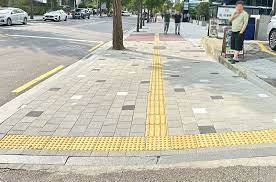guide_blocks: (1, 128, 275, 152), (144, 53, 167, 134), (152, 34, 161, 54)
